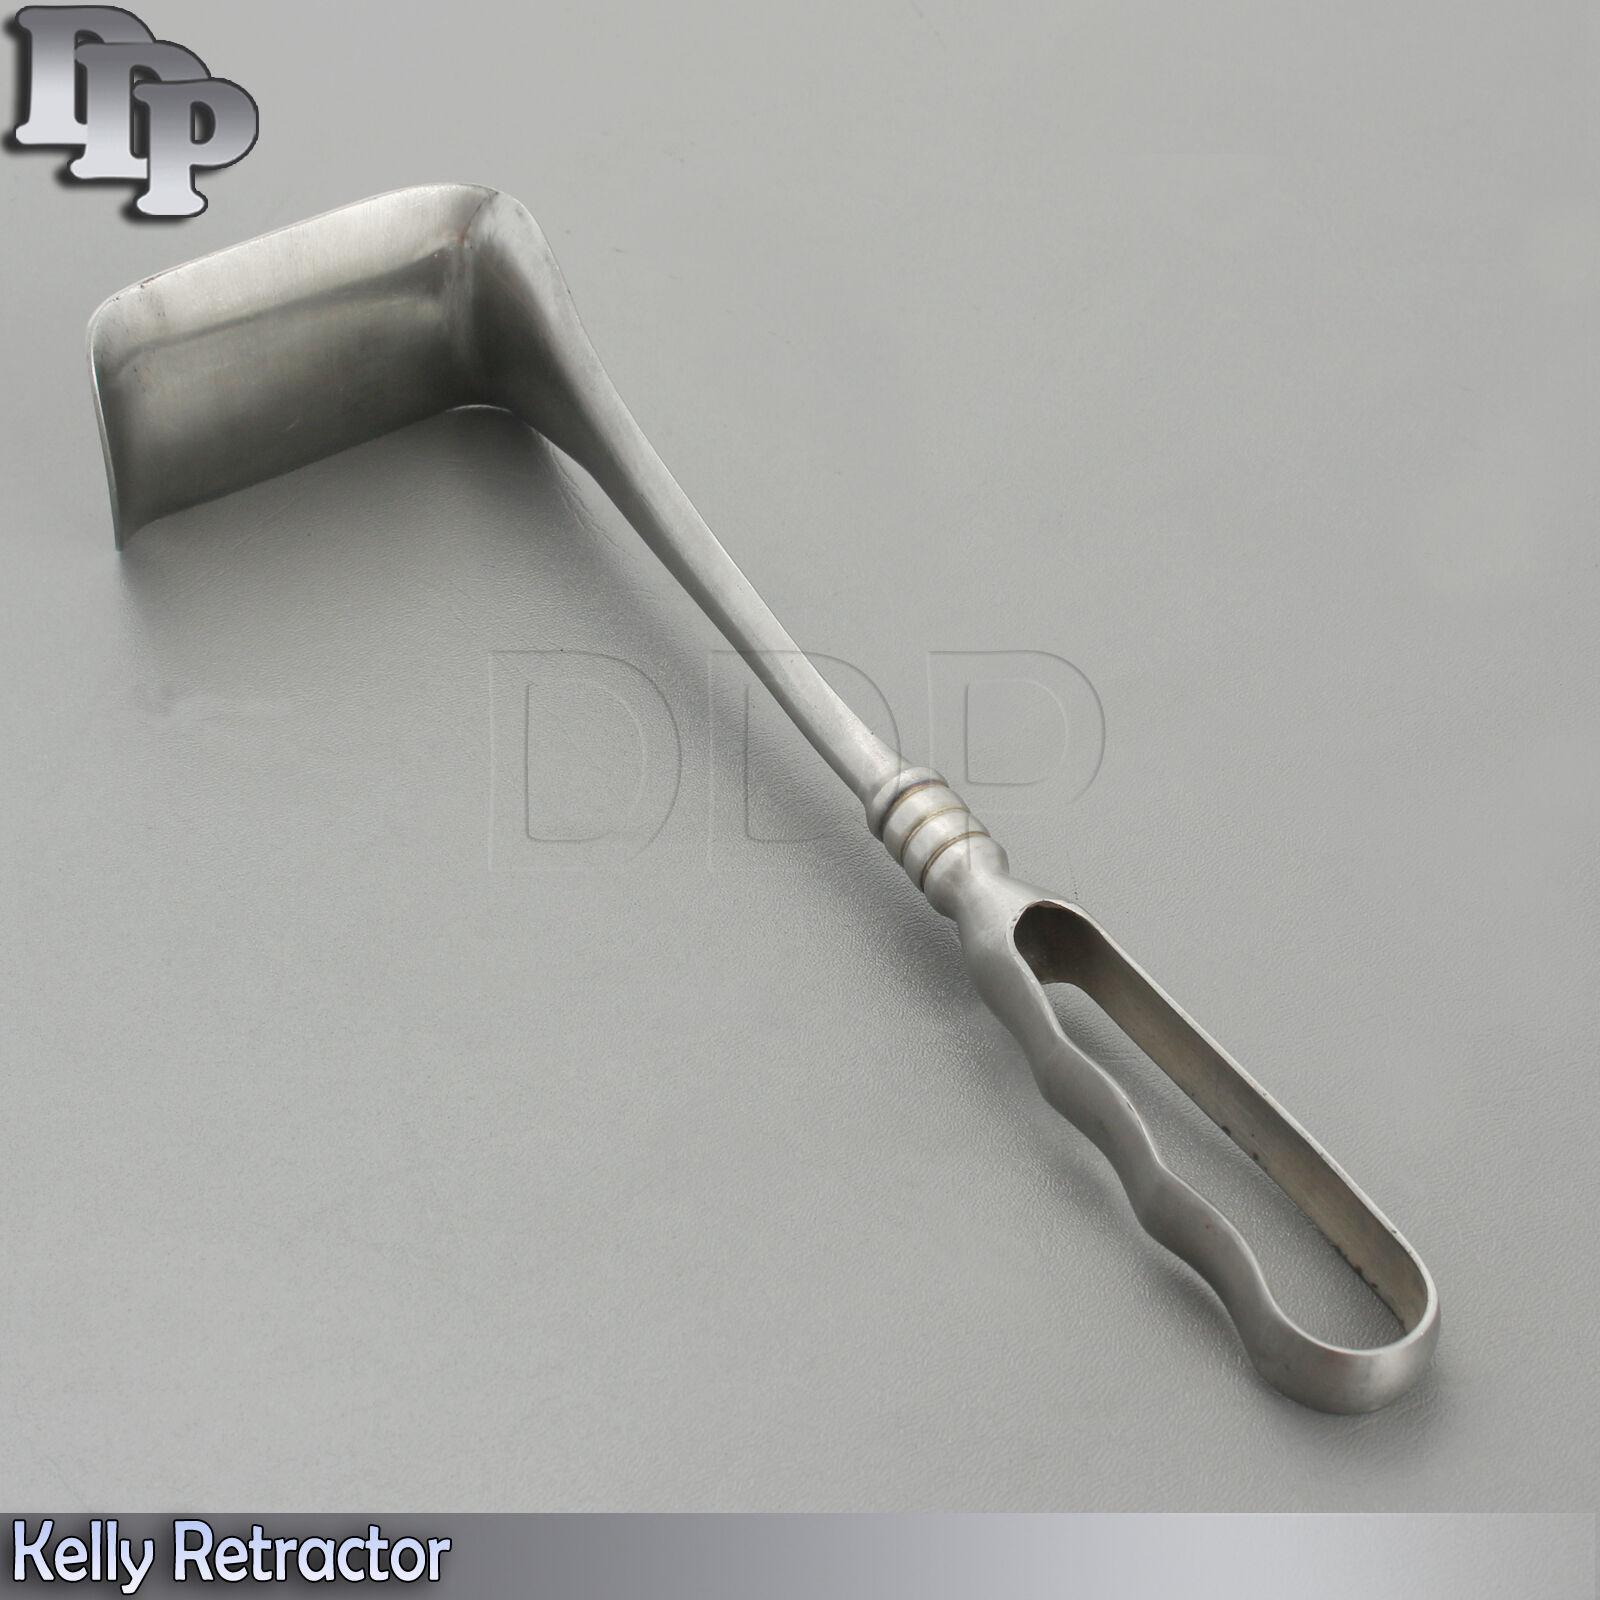Kelly Retractor: (72, 177, 1455, 1405)
